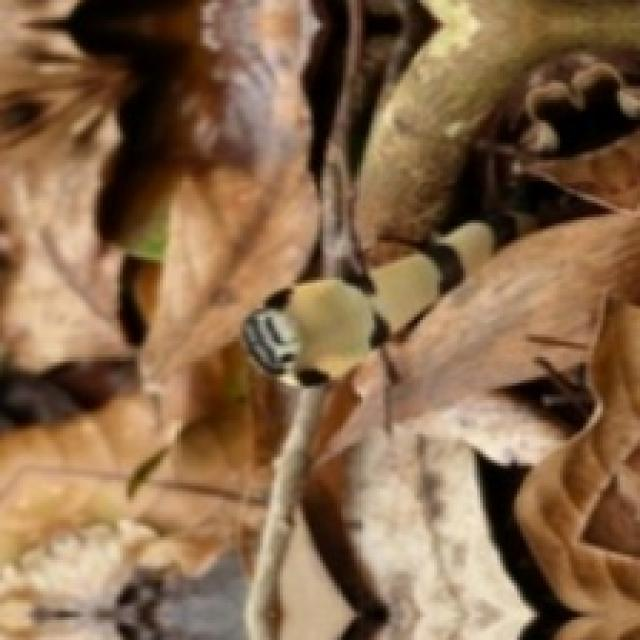king cobra: (0, 0, 637, 637), (311, 220, 637, 611), (306, 0, 637, 274)
